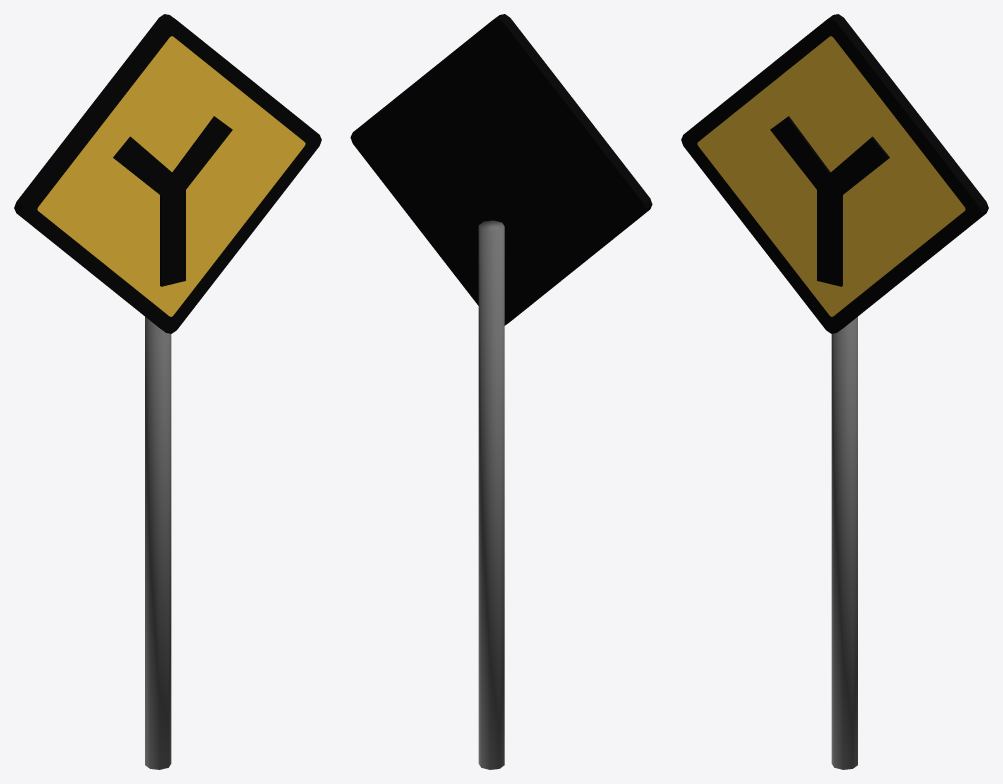
Rendered from Prop_StreetSign_Y.fbx.
3 views of the same model, side by side, from view 1: azimuth 30°, elevation 25°; view 2: azimuth 150°, elevation 25°; view 3: azimuth 330°, elevation 25° (orthographic).
Visible parts, largest first — view 1: Prop_StreetSign_Y; view 2: Prop_StreetSign_Y; view 3: Prop_StreetSign_Y.
Part boxes in pixels (x1,y1,x2,y2): Prop_StreetSign_Y: (14,14,321,769); Prop_StreetSign_Y: (350,14,652,769); Prop_StreetSign_Y: (681,14,988,769).
Bounding box in the file's own units: 190 × 455 × 23.66.
